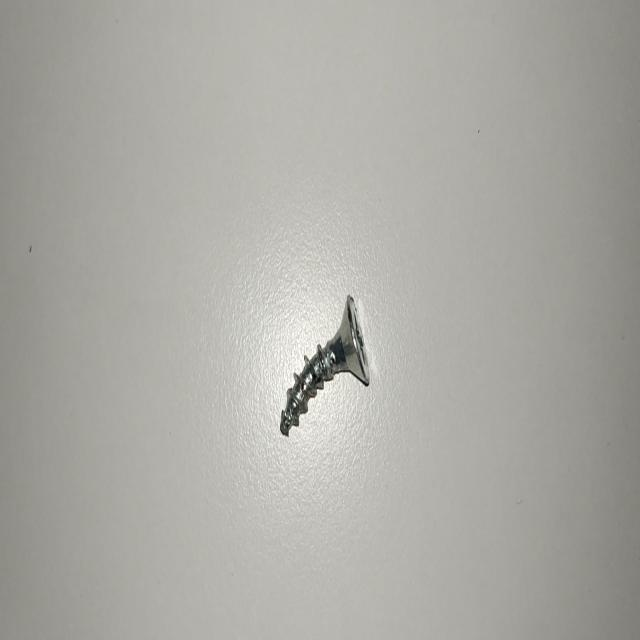Screw: (280, 295, 370, 435)
